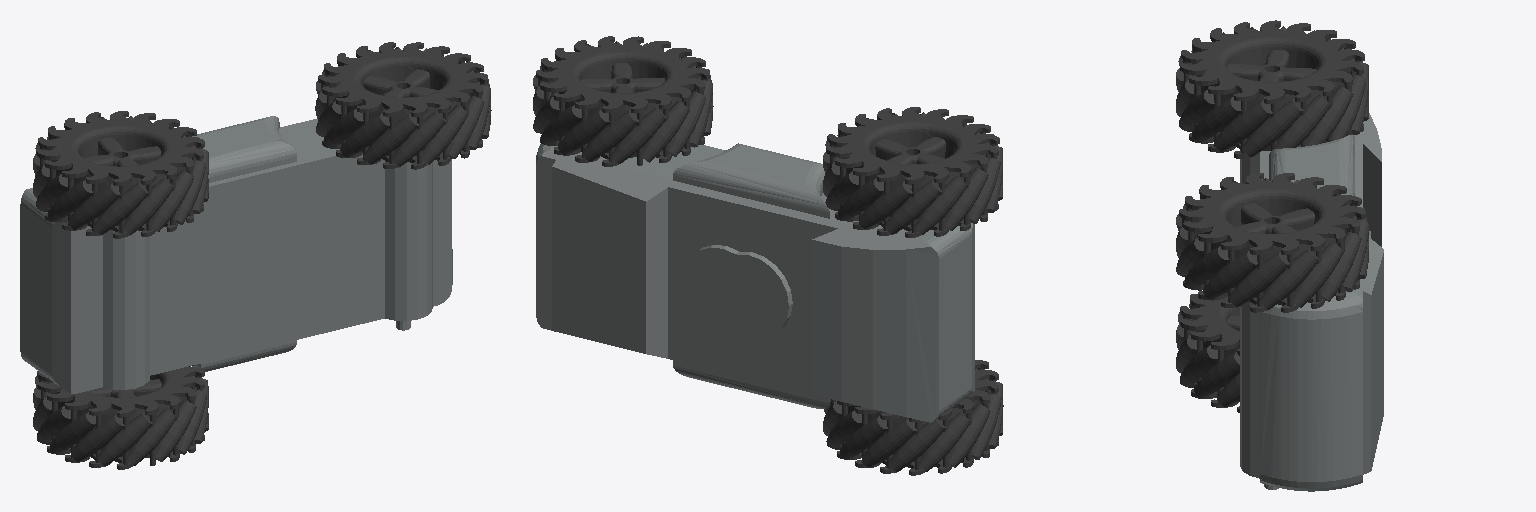
URDF robot description (four_wheels_chassis):
<?xml version="1.0" encoding="utf-8"?>
<!-- This URDF was automatically created by SolidWorks to URDF Exporter! Originally created by Stephen Brawner (brawner@gmail.com) 
     Commit Version: 1.6.0-4-g7f85cfe  Build Version: 1.6.7995.38578
     For more information, please see http://wiki.ros.org/sw_urdf_exporter -->
<robot
  name="four_wheels_chassis">
  <link
    name="base_link">
    <inertial>
      <origin
        xyz="-0.00330221731717334 0.0325417122827733 -2.58263806423437E-05"
        rpy="0 0 0" />
      <mass
        value="22.6717435021437" />
      <inertia
        ixx="0.0441605176235026"
        ixy="-8.63208331581681E-05"
        ixz="2.0229555045361E-06"
        iyy="0.211330876853214"
        iyz="1.97789942384825E-05"
        izz="0.185767983428727" />
    </inertial>
    <visual>
      <origin
        xyz="0 0 0"
        rpy="0 0 0" />
      <geometry>
        <mesh
          filename="meshes/base_link.STL" />
      </geometry>
      <material
        name="">
        <color
          rgba="0.529411764705882 0.549019607843137 0.549019607843137 1" />
      </material>
    </visual>
    <collision>
      <origin
        xyz="0 0 0"
        rpy="0 0 0" />
      <geometry>
        <mesh
          filename="meshes/base_link.STL" />
      </geometry>
    </collision>
  </link>
  <link
    name="wheel_lf_link">
    <inertial>
      <origin
        xyz="5.73539032563686E-05 -2.9972576836429E-07 0.000124417860132384"
        rpy="0 0 0" />
      <mass
        value="0.304599150390103" />
      <inertia
        ixx="0.000306635546690288"
        ixy="-6.83736707380597E-09"
        ixz="-3.4280031096312E-07"
        iyy="0.000305699030327149"
        iyz="3.54977145484189E-09"
        izz="0.000540360904407992" />
    </inertial>
    <visual>
      <origin
        xyz="0 0 0"
        rpy="0 0 0" />
      <geometry>
        <mesh
          filename="meshes/wheel_lf_link.STL" />
      </geometry>
      <material
        name="">
        <color
          rgba="0.298039215686275 0.298039215686275 0.298039215686275 1" />
      </material>
    </visual>
    <collision>
      <origin
        xyz="0 0 0"
        rpy="0 0 0" />
      <geometry>
        <mesh
          filename="meshes/wheel_lf_link.STL" />
      </geometry>
    </collision>
  </link>
  <joint
    name="wheel_lf_joint"
    type="continuous">
    <origin
      xyz="-0.11 0.00735756317525305 0.086"
      rpy="3.14159265358979 0 3.14159265358979" />
    <parent
      link="base_link" />
    <child
      link="wheel_lf_link" />
    <axis
      xyz="0 0 1" />
  </joint>
  <link
    name="wheel_rf_link">
    <inertial>
      <origin
        xyz="-7.08645731969937E-06 5.69135032745041E-05 0.000124420522378821"
        rpy="0 0 0" />
      <mass
        value="0.304599227158444" />
      <inertia
        ixx="0.000305712856378214"
        ixy="-1.12979510783002E-07"
        ixz="4.06130003457354E-08"
        iyy="0.000306621834757987"
        iyz="-3.4039793659996E-07"
        izz="0.000540360999500532" />
    </inertial>
    <visual>
      <origin
        xyz="0 0 0"
        rpy="0 0 0" />
      <geometry>
        <mesh
          filename="meshes/wheel_rf_link.STL" />
      </geometry>
      <material
        name="">
        <color
          rgba="0.298039215686275 0.298039215686275 0.298039215686275 1" />
      </material>
    </visual>
    <collision>
      <origin
        xyz="0 0 0"
        rpy="0 0 0" />
      <geometry>
        <mesh
          filename="meshes/wheel_rf_link.STL" />
      </geometry>
    </collision>
  </link>
  <joint
    name="wheel_rf_joint"
    type="continuous">
    <origin
      xyz="-0.11 0.00735756317525303 -0.086"
      rpy="3.14159265358979 0 3.14159265358979" />
    <parent
      link="base_link" />
    <child
      link="wheel_rf_link" />
    <axis
      xyz="0 0 1" />
  </joint>
  <link
    name="wheel_rb_link">
    <inertial>
      <origin
        xyz="3.44374949006604E-05 4.58651366546242E-05 0.000124419260676051"
        rpy="0 0 0" />
      <mass
        value="0.304599171277994" />
      <inertia
        ixx="0.000306038753832959"
        ixy="4.50281370046904E-07"
        ixz="-2.07272852667199E-07"
        iyy="0.000306295895379469"
        iyz="-2.73058022700886E-07"
        izz="0.000540360963831866" />
    </inertial>
    <visual>
      <origin
        xyz="0 0 0"
        rpy="0 0 0" />
      <geometry>
        <mesh
          filename="meshes/wheel_rb_link.STL" />
      </geometry>
      <material
        name="">
        <color
          rgba="0.298039215686275 0.298039215686275 0.298039215686275 1" />
      </material>
    </visual>
    <collision>
      <origin
        xyz="0 0 0"
        rpy="0 0 0" />
      <geometry>
        <mesh
          filename="meshes/wheel_rb_link.STL" />
      </geometry>
    </collision>
  </link>
  <joint
    name="wheel_rb_joint"
    type="continuous">
    <origin
      xyz="0.11 0.00735756317525278 -0.086"
      rpy="3.14159265358979 0 3.14159265358979" />
    <parent
      link="base_link" />
    <child
      link="wheel_rb_link" />
    <axis
      xyz="0 0 1" />
  </joint>
  <link
    name="wheel_lb_link">
    <inertial>
      <origin
        xyz="-3.78638602006251E-05 -4.30802429762511E-05 0.000124418886977111"
        rpy="0 0 0" />
      <mass
        value="0.304599160504414" />
      <inertia
        ixx="0.000306109342759773"
        ixy="4.64673066168232E-07"
        ixz="2.27664816301897E-07"
        iyy="0.000306225290429213"
        iyz="2.56304663085611E-07"
        izz="0.000540360950478997" />
    </inertial>
    <visual>
      <origin
        xyz="0 0 0"
        rpy="0 0 0" />
      <geometry>
        <mesh
          filename="meshes/wheel_lb_link.STL" />
      </geometry>
      <material
        name="">
        <color
          rgba="0.298039215686275 0.298039215686275 0.298039215686275 1" />
      </material>
    </visual>
    <collision>
      <origin
        xyz="0 0 0"
        rpy="0 0 0" />
      <geometry>
        <mesh
          filename="meshes/wheel_lb_link.STL" />
      </geometry>
    </collision>
  </link>
  <joint
    name="wheel_lb_joint"
    type="continuous">
    <origin
      xyz="0.11 0.0073575631752528 0.086"
      rpy="3.14159265358979 0 3.14159265358979" />
    <parent
      link="base_link" />
    <child
      link="wheel_lb_link" />
    <axis
      xyz="0 0 1" />
  </joint>
  <mujoco>
        <compiler balanceinertia="true" discardvisual="false" meshdir="../meshes_mujoco"/>
    </mujoco>
</robot>

--- What the picture shows (computed from the rendered views, not written in the file) ---
The picture shows the robot from 3 angles, left to right: view 1: azimuth 30°, elevation 25°; view 2: azimuth 150°, elevation 25°; view 3: azimuth 270°, elevation 25°; orthographic projection.
Model four_wheels_chassis with 5 links and 4 joints (4 continuous), rooted at base_link, posed all joints at 0.
Links seen in each view (by area): view 1: base_link, wheel_lf_link, wheel_lb_link, wheel_rf_link; view 2: base_link, wheel_lf_link, wheel_lb_link, wheel_rf_link; view 3: base_link, wheel_lb_link, wheel_lf_link, wheel_rf_link.
Boxes of the visible links, bbox=[...] form: base_link: bbox=[20, 116, 452, 393]; wheel_lf_link: bbox=[33, 111, 208, 238]; wheel_lb_link: bbox=[315, 42, 491, 169]; wheel_rf_link: bbox=[33, 365, 208, 469]; base_link: bbox=[536, 143, 974, 422]; wheel_lf_link: bbox=[823, 107, 1002, 237]; wheel_lb_link: bbox=[533, 36, 713, 166]; wheel_rf_link: bbox=[823, 360, 1003, 475]; base_link: bbox=[1240, 113, 1383, 491]; wheel_lb_link: bbox=[1176, 172, 1368, 312]; wheel_lf_link: bbox=[1176, 20, 1368, 158]; wheel_rf_link: bbox=[1176, 294, 1239, 412].
Size in the robot's own frame: 0.3388 by 0.1281 by 0.214 metres.
4 mesh visuals loaded from 5 distinct referenced files (4 binary STL); not drawn: 1 (reference not matched to a file when rendering).
